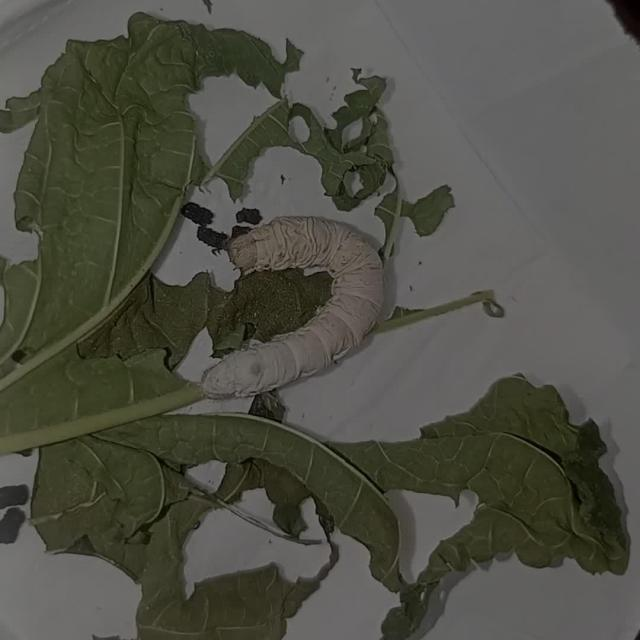Healthy: (193, 182, 402, 430)
